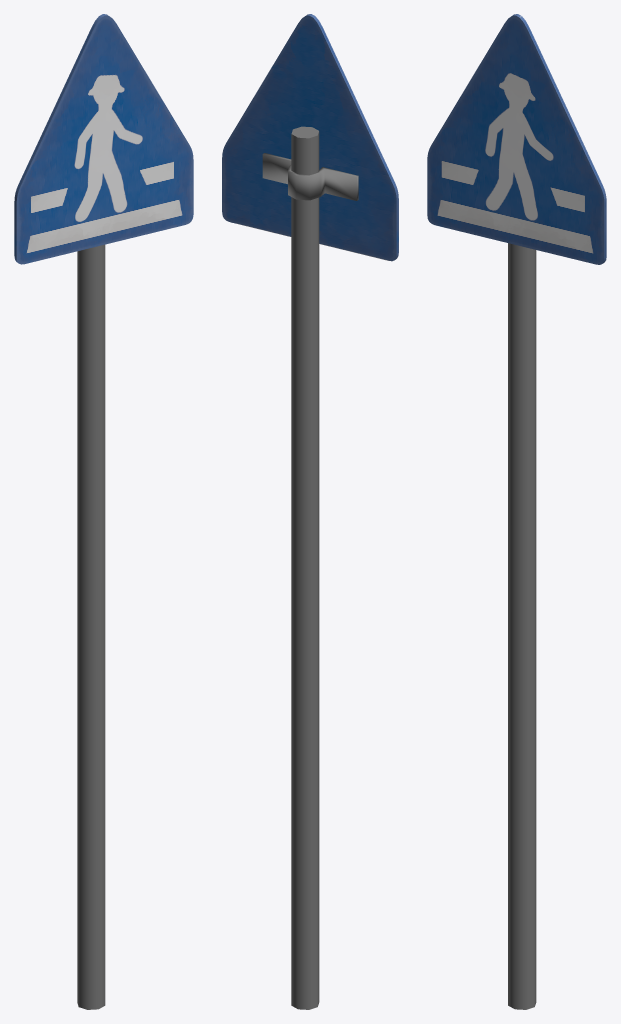
File: SM_sign_traffic_014.fbx
3 renders of one model, left to right at view 1: azimuth 30°, elevation 25°; view 2: azimuth 150°, elevation 25°; view 3: azimuth 330°, elevation 25°, orthographic.
Parts seen in each view (by area): view 1: Object32702; view 2: Object32702; view 3: Object32702.
Boxes of the visible parts, left/top/right/bottom form: Object32702: left=14, top=14, right=193, bottom=1009; Object32702: left=222, top=14, right=398, bottom=1009; Object32702: left=427, top=14, right=606, bottom=1009.
Size of the model in its own units: 22.12 by 119 by 4.16.
